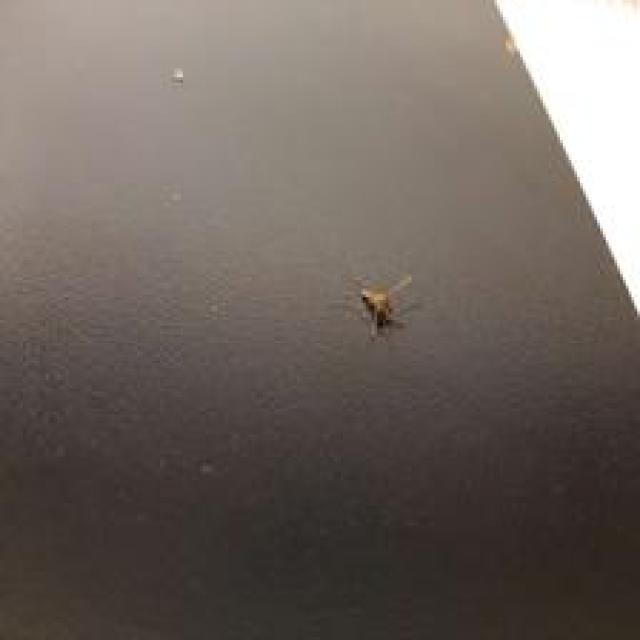Culex: (358, 272, 413, 332)
